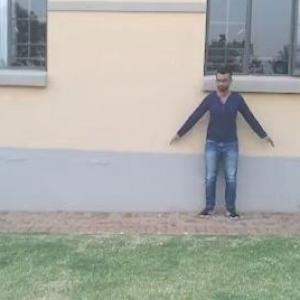land: (168, 69, 274, 232)
